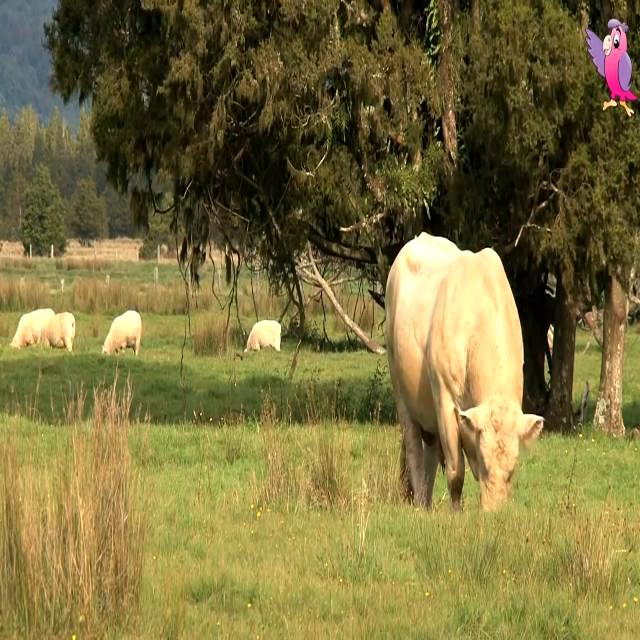COW: (385, 232, 544, 510)
